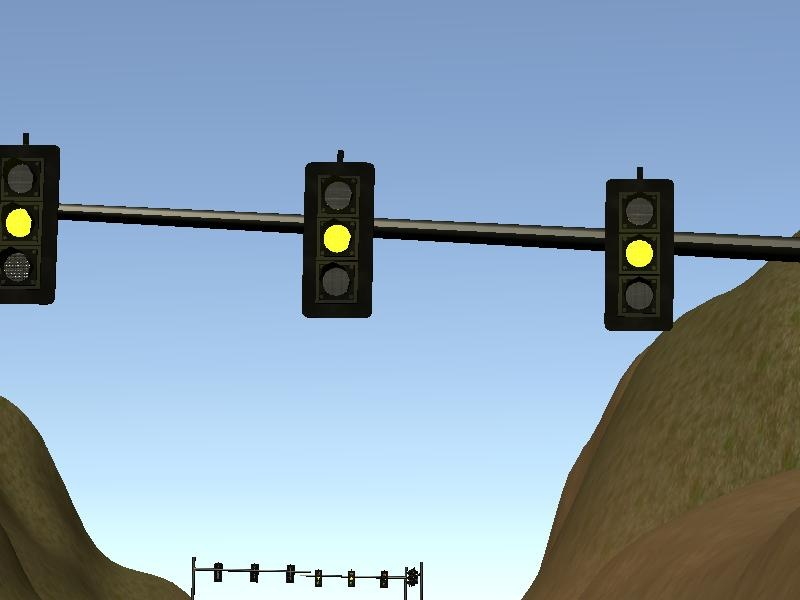yellow: (292, 147, 384, 326), (599, 167, 680, 339), (1, 143, 65, 308)
